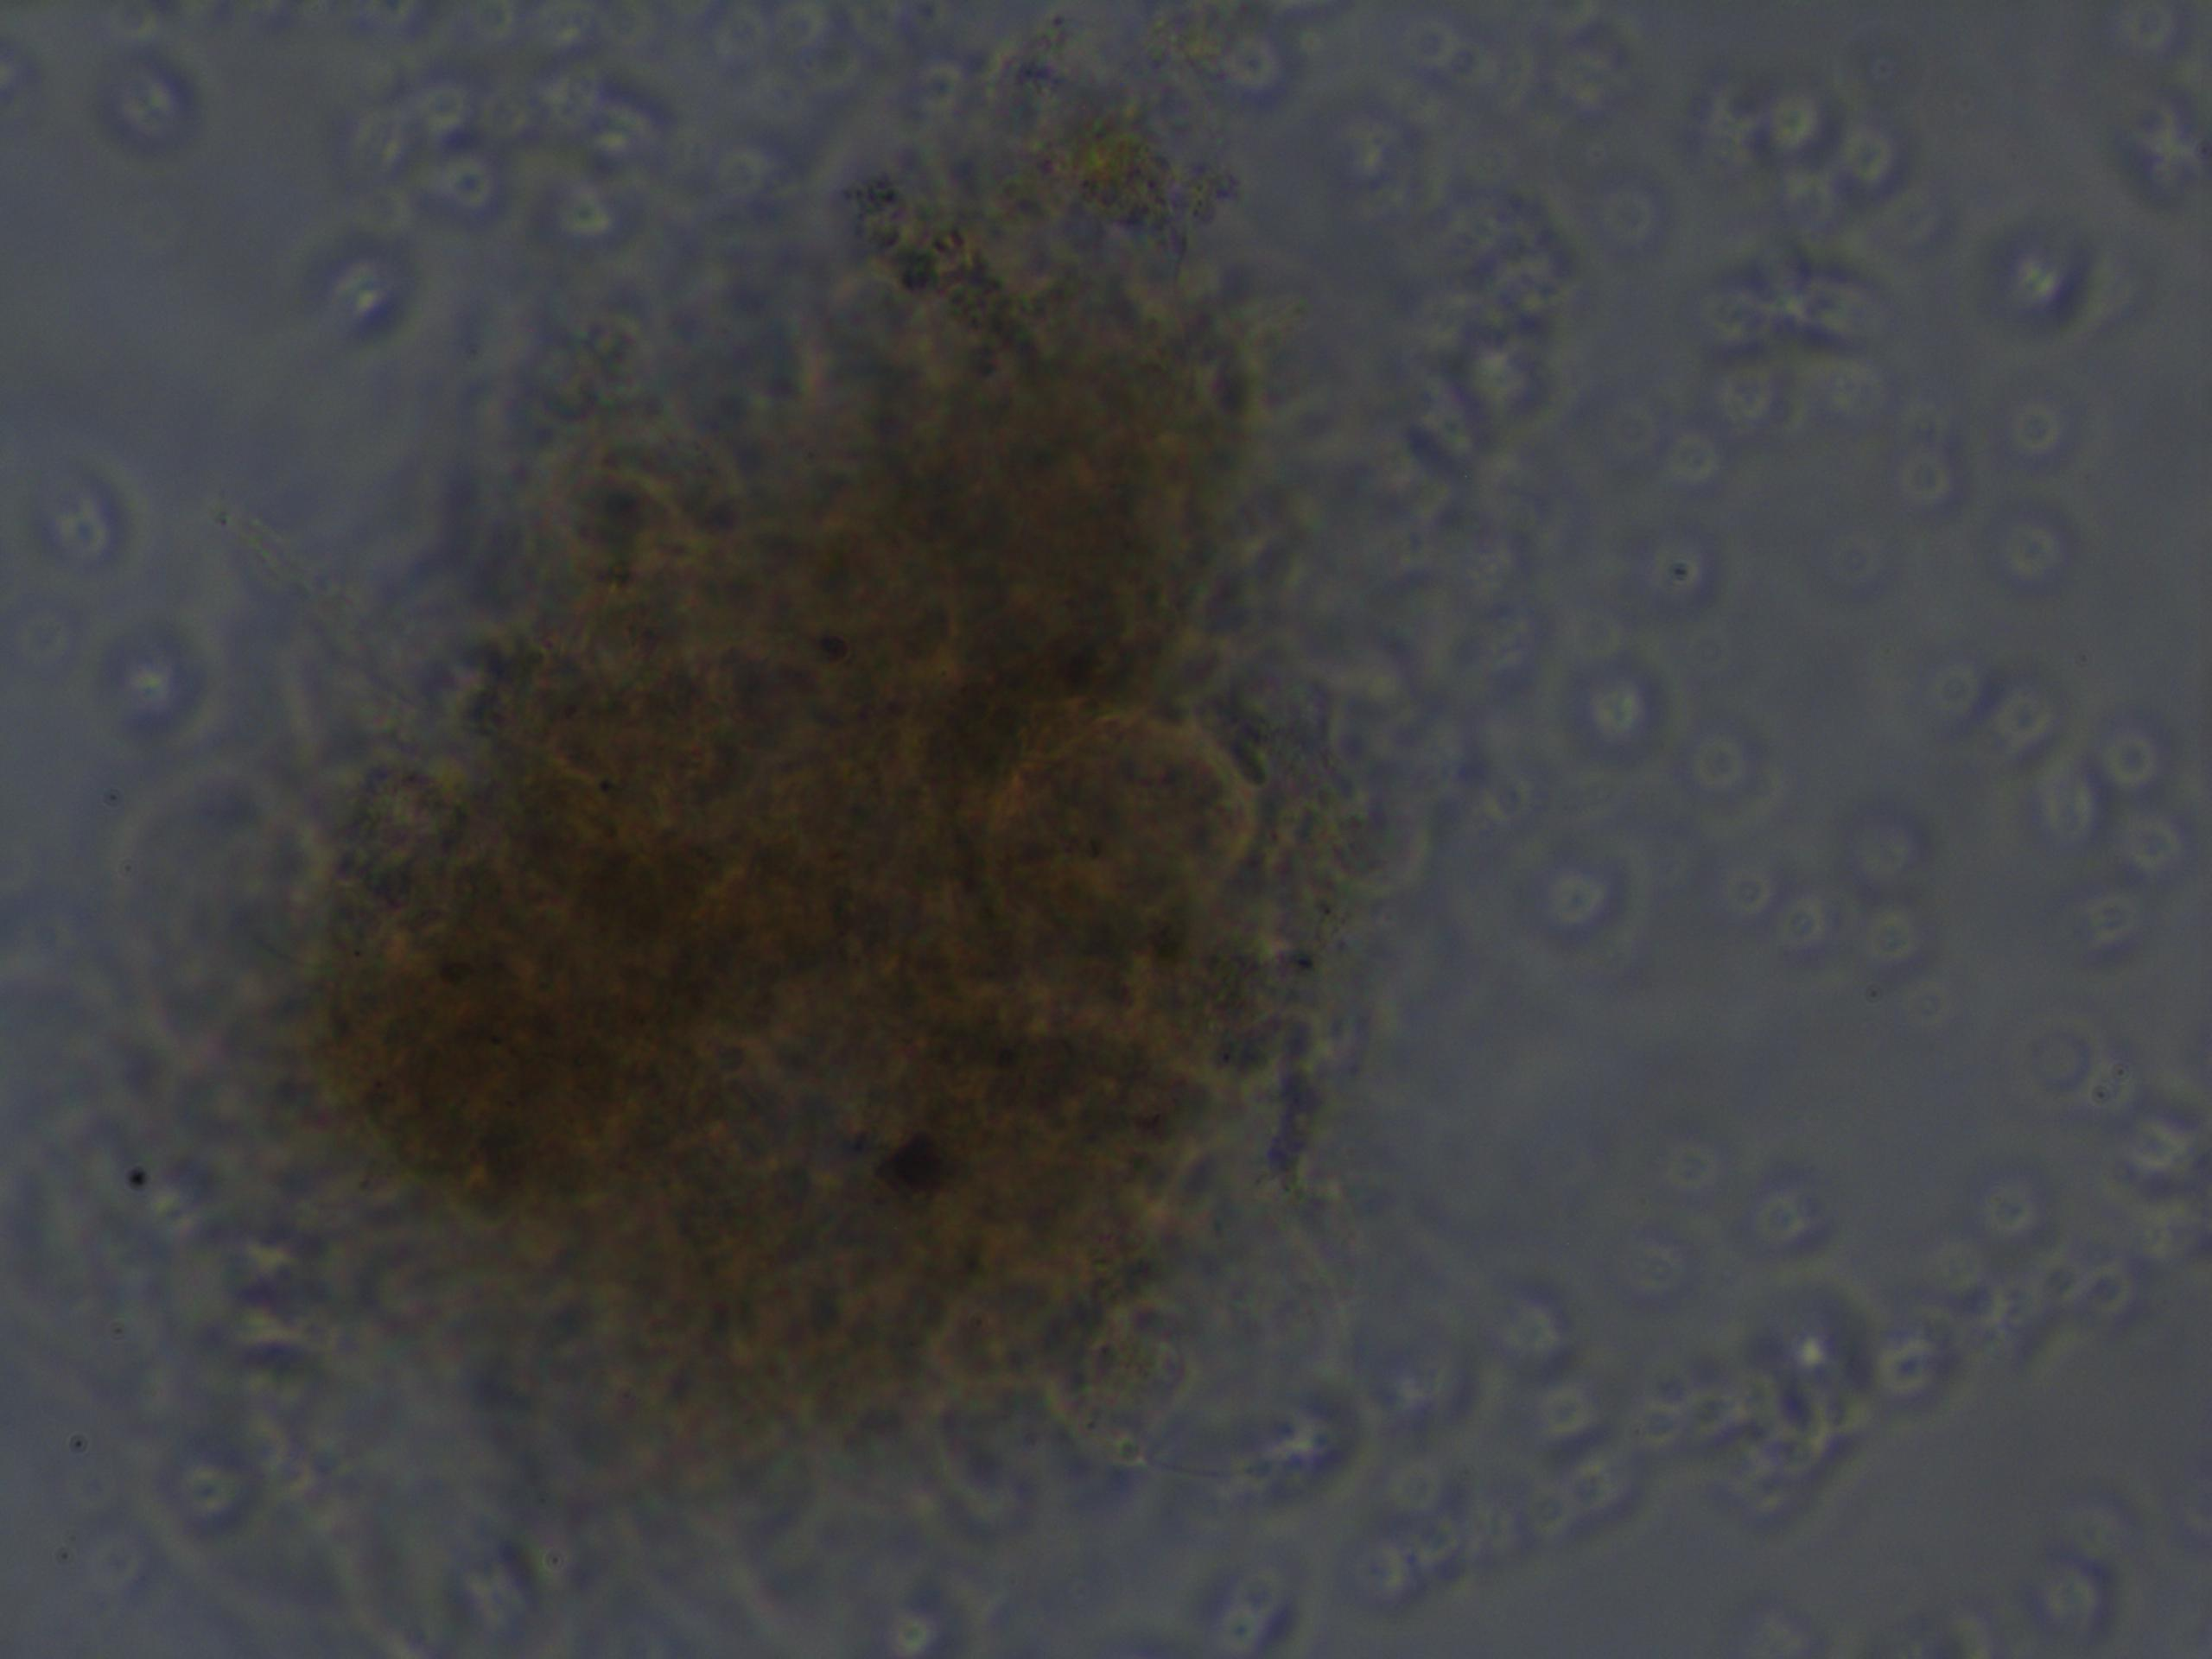spherical_floc: (233, 150, 1355, 1499)
